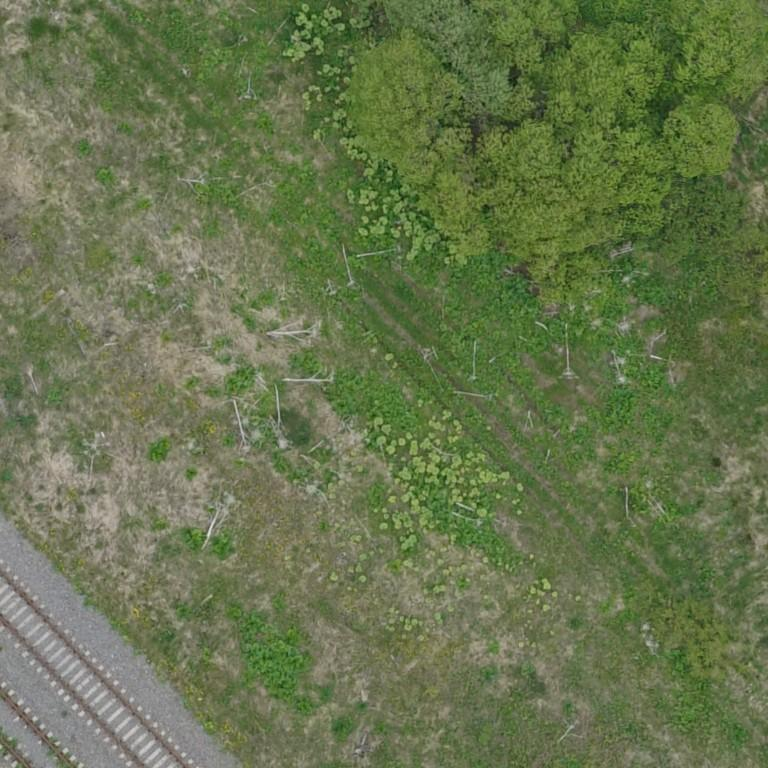hogweed: (470, 252, 546, 351), (238, 618, 307, 700), (603, 388, 638, 431), (227, 367, 253, 395), (642, 366, 663, 391), (606, 453, 630, 474), (185, 527, 204, 549), (150, 440, 171, 459), (214, 537, 232, 558), (549, 318, 564, 341), (297, 698, 311, 713)
